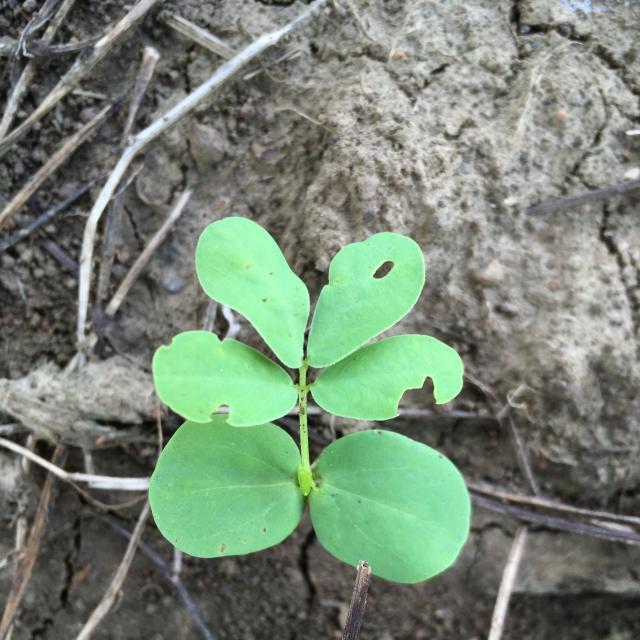Sicklepod: (148, 216, 472, 584)
